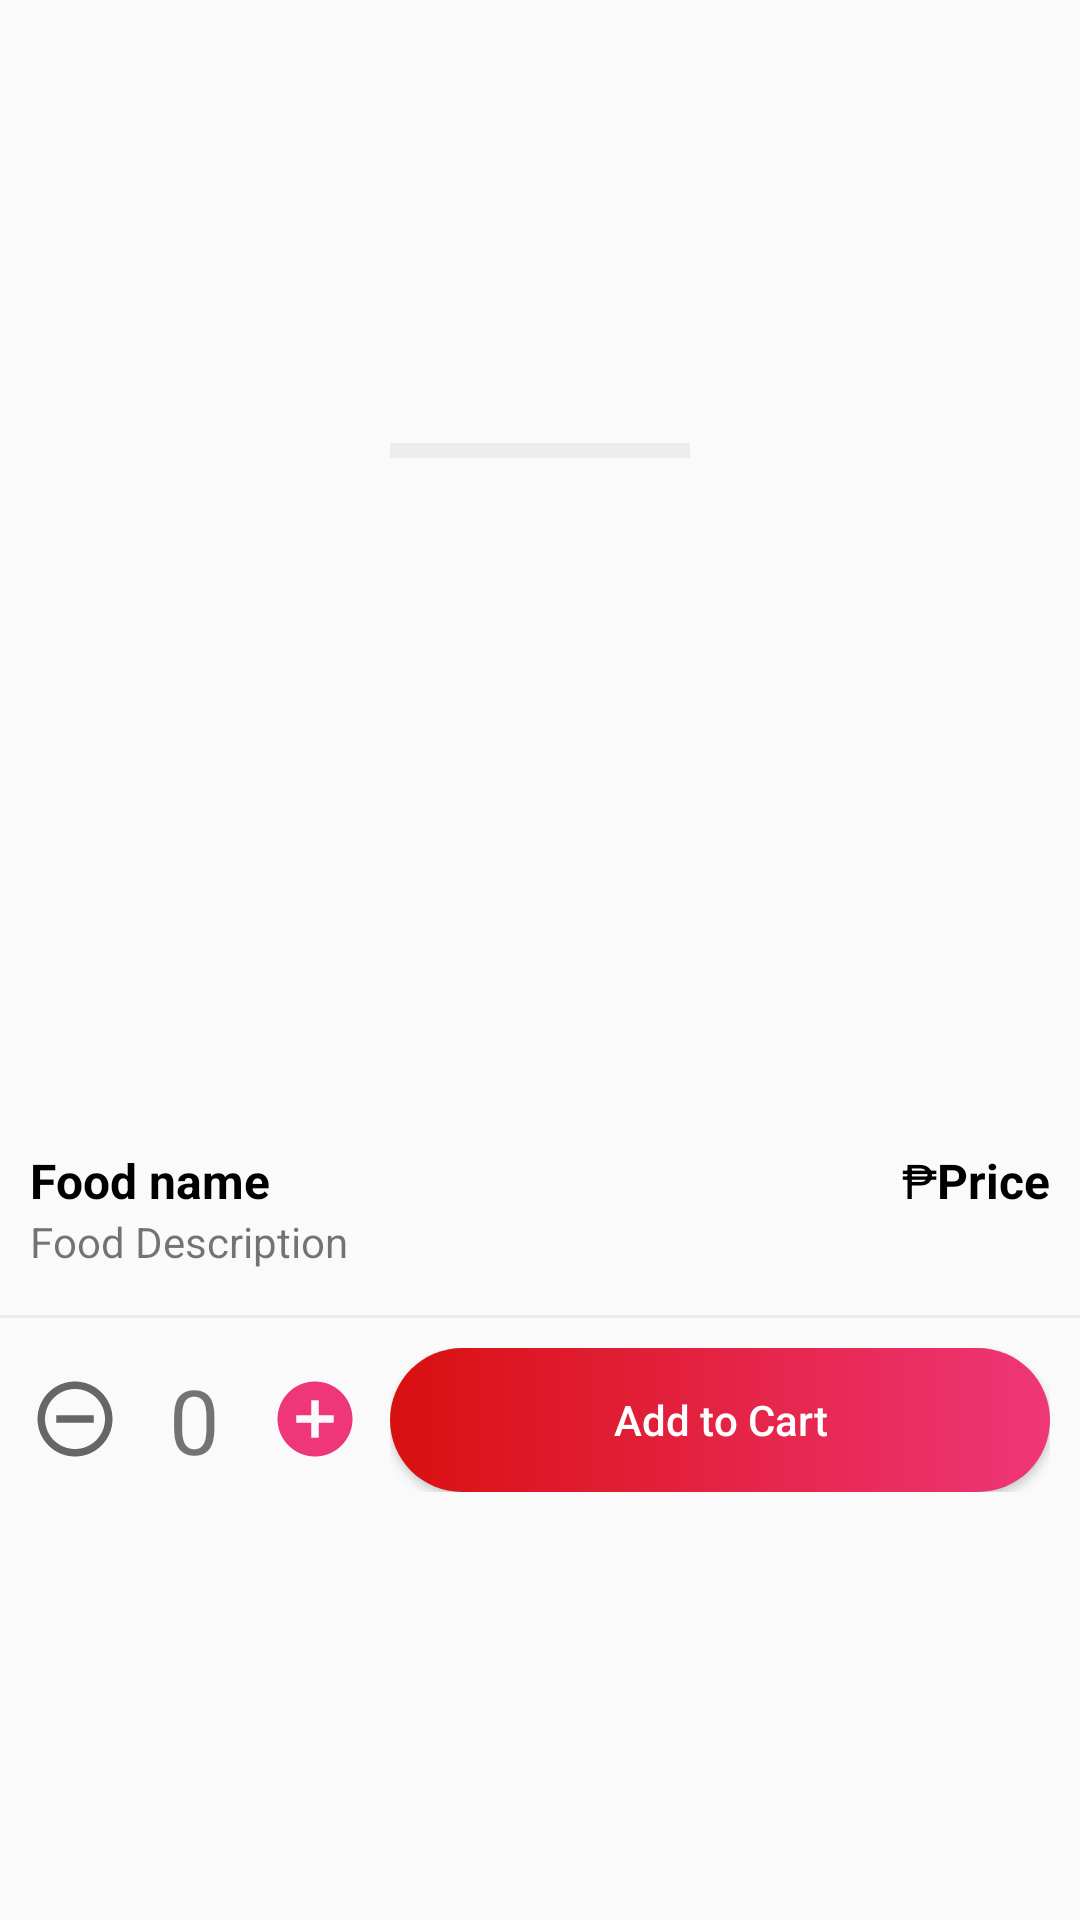

Icon click points for this 1080×1920 phone screenshot, format (x,y):
minus: (75,1419)
plus: (315,1419)
